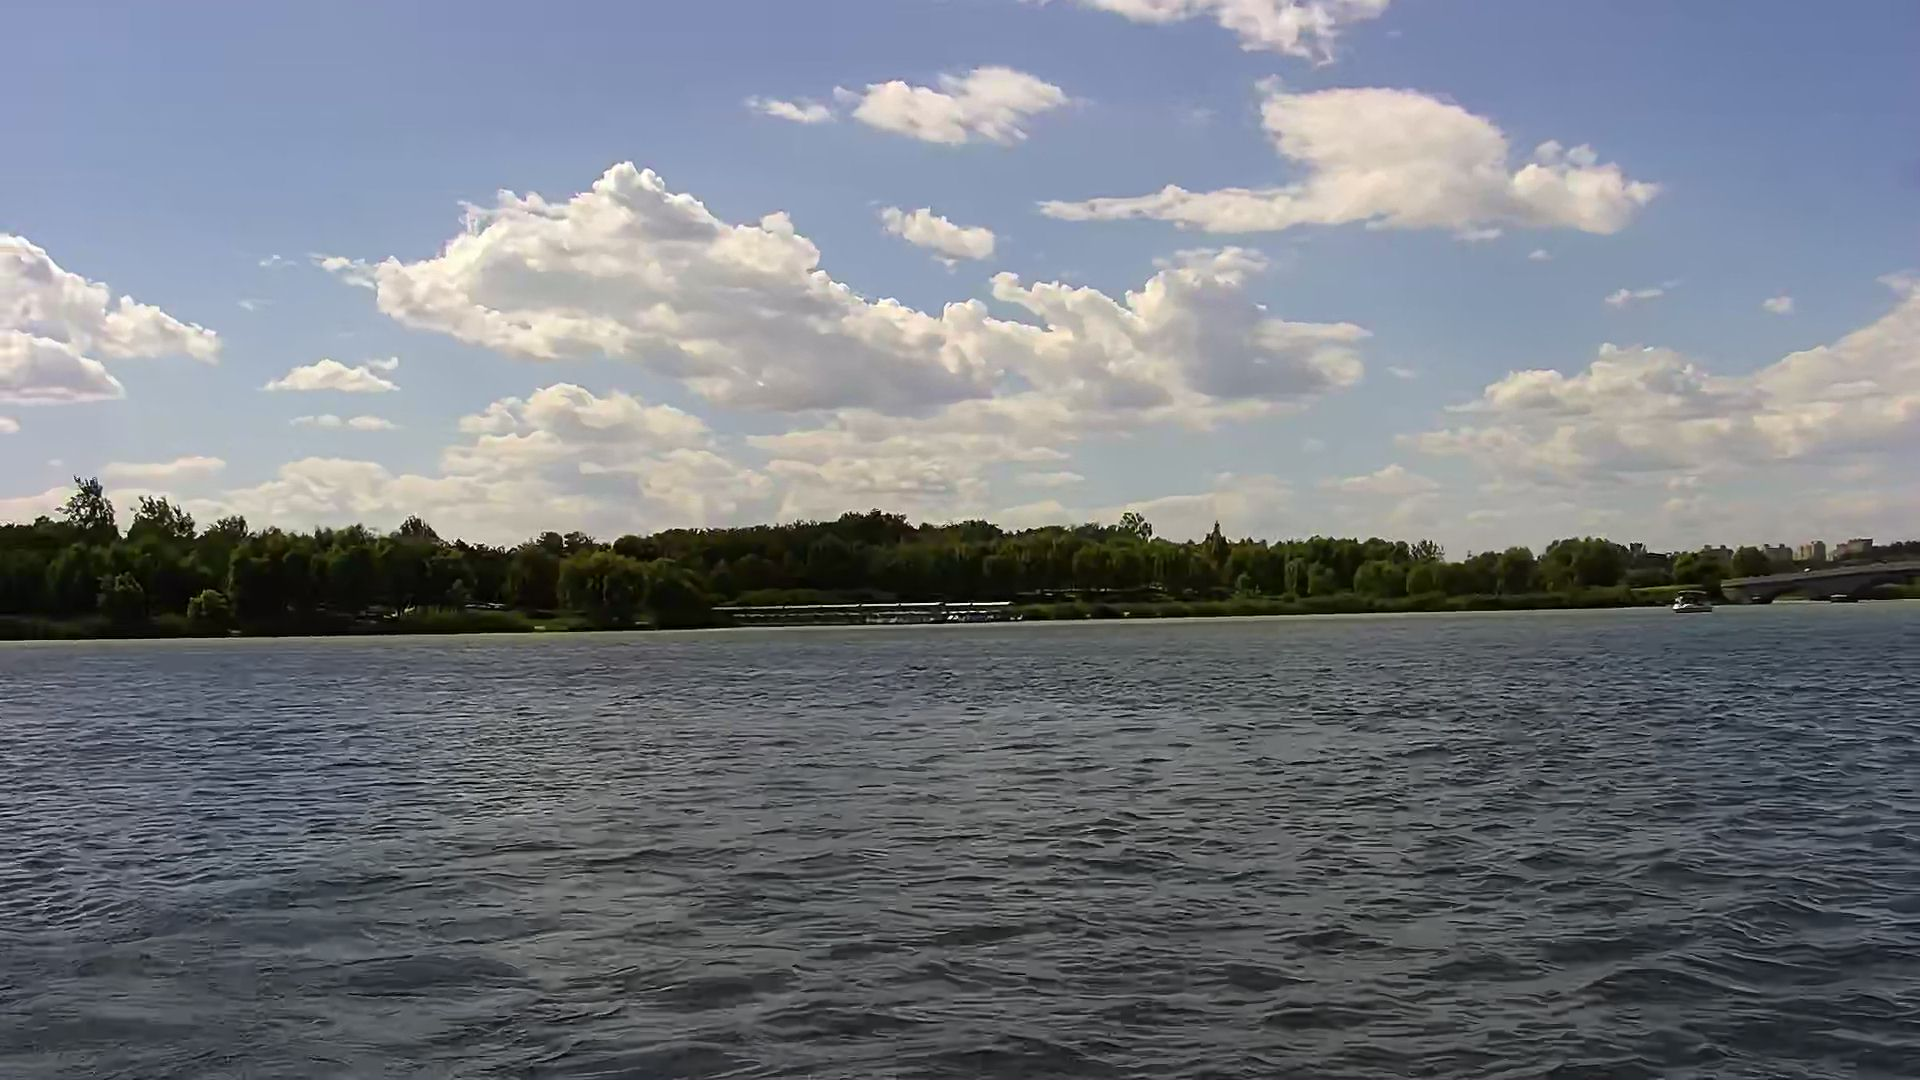boat: (1671, 589, 1718, 613)
bridge: (1725, 564, 1920, 597), (715, 603, 1010, 621)
